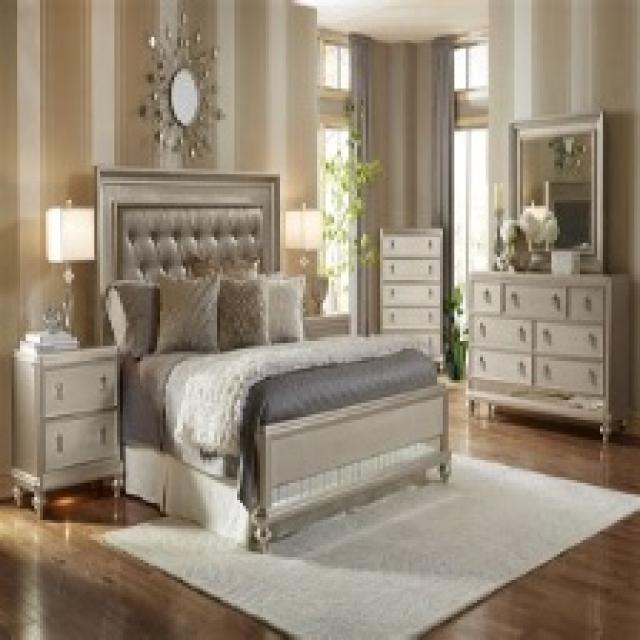Bed: (91, 163, 452, 551)
